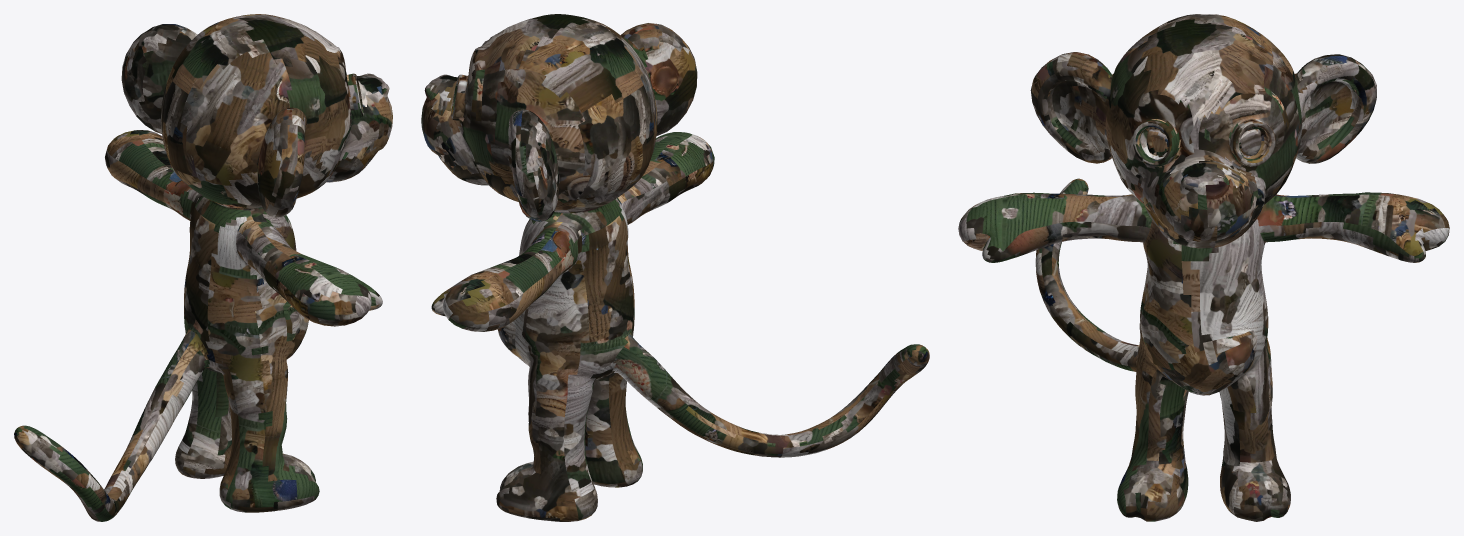
The model's file is tripo_convert_b6eb4277-ea06-49f0-9f98-3ce1c09b58ab.fbx.
3 renders of one model, left to right at view 1: azimuth 30°, elevation 25°; view 2: azimuth 150°, elevation 25°; view 3: azimuth 270°, elevation 25°, orthographic. The views are drawn at different scales.
Visible parts, largest first — view 1: tripo_node_b6eb4277; view 2: tripo_node_b6eb4277; view 3: tripo_node_b6eb4277.
Boxes of the visible parts, x1,y1,x2,y2 form: tripo_node_b6eb4277: (14, 14, 392, 521); tripo_node_b6eb4277: (421, 14, 929, 521); tripo_node_b6eb4277: (958, 14, 1449, 521).
Bounding box in the file's own units: 0.9864 × 0.9998 × 0.9192.
